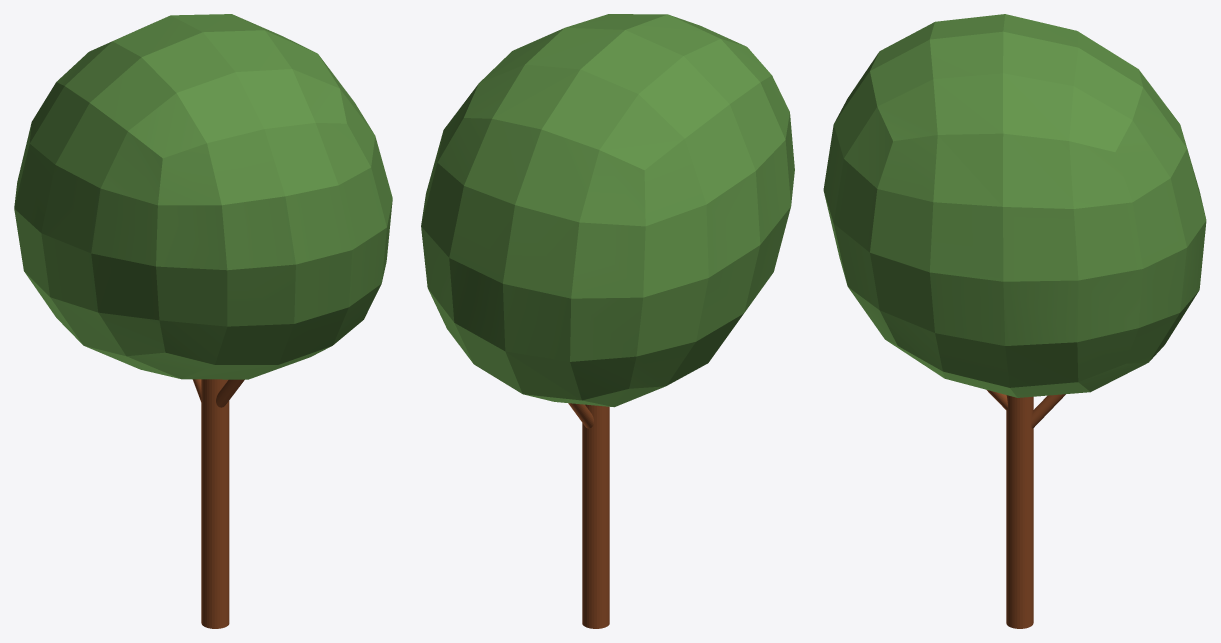
The model's file is decorLarge-village-79.glb.
3 views of the same model, side by side, from view 1: azimuth 30°, elevation 25°; view 2: azimuth 150°, elevation 25°; view 3: azimuth 270°, elevation 25° (orthographic). The views are drawn at different scales.
Visible parts, largest first — view 1: piece; view 2: piece; view 3: piece.
Part boxes in pixels (x1,y1,x2,y2): piece: [14, 14, 392, 628]; piece: [421, 14, 794, 628]; piece: [823, 14, 1206, 628].
Bounding box in the file's own units: 9.13 × 16.51 × 9.85.
